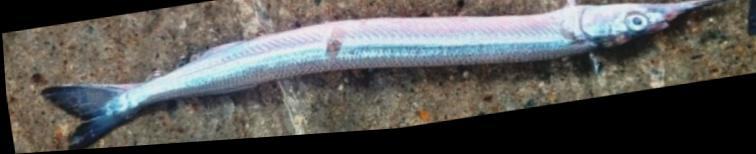fish: (37, 4, 731, 151)
